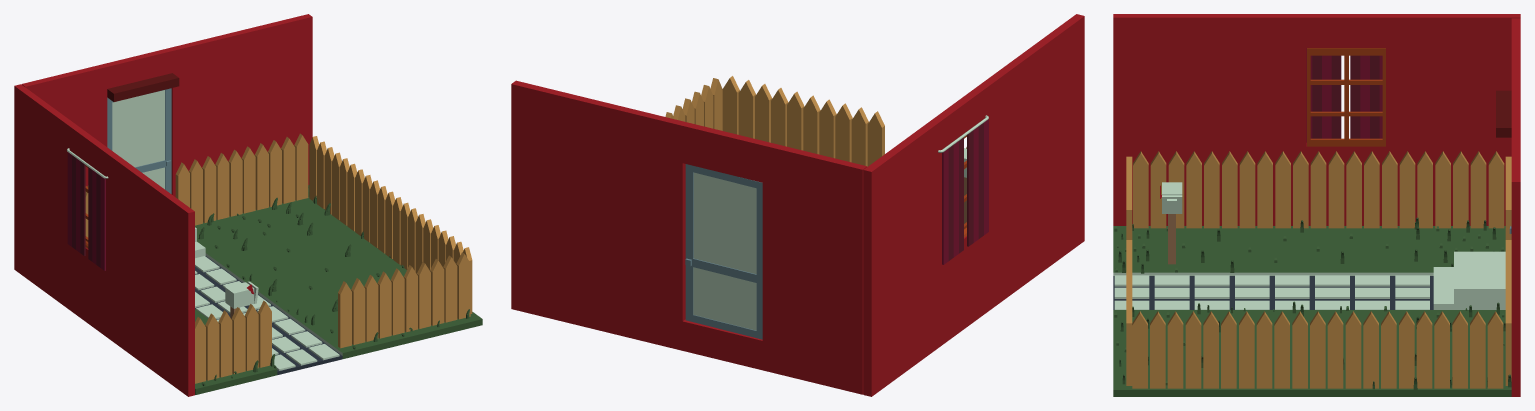
The model's file is BuildingEnterance.fbx.
3 views of the same model, side by side, from view 1: azimuth 30°, elevation 25°; view 2: azimuth 150°, elevation 25°; view 3: azimuth 270°, elevation 25° (orthographic). The views are drawn at different scales.
Visible parts, largest first — view 1: BuildingWall, GardenFloor, MainDoor, MailBox; view 2: BuildingWall, MainDoor, GardenFloor; view 3: GardenFloor, BuildingWall, MailBox.
Boxes of the visible parts, x1,y1,x2,y2 form: BuildingWall: (14,14,312,396); GardenFloor: (85,133,482,394); MainDoor: (107,88,171,193); MailBox: (225,281,258,318); BuildingWall: (511,14,1084,396); MainDoor: (685,164,762,339); GardenFloor: (665,76,966,166); GardenFloor: (1113,151,1511,396); BuildingWall: (1113,14,1520,396); MailBox: (1160,182,1182,264).
Bounding box in the file's own units: 11.68 × 6.86 × 11.77.
